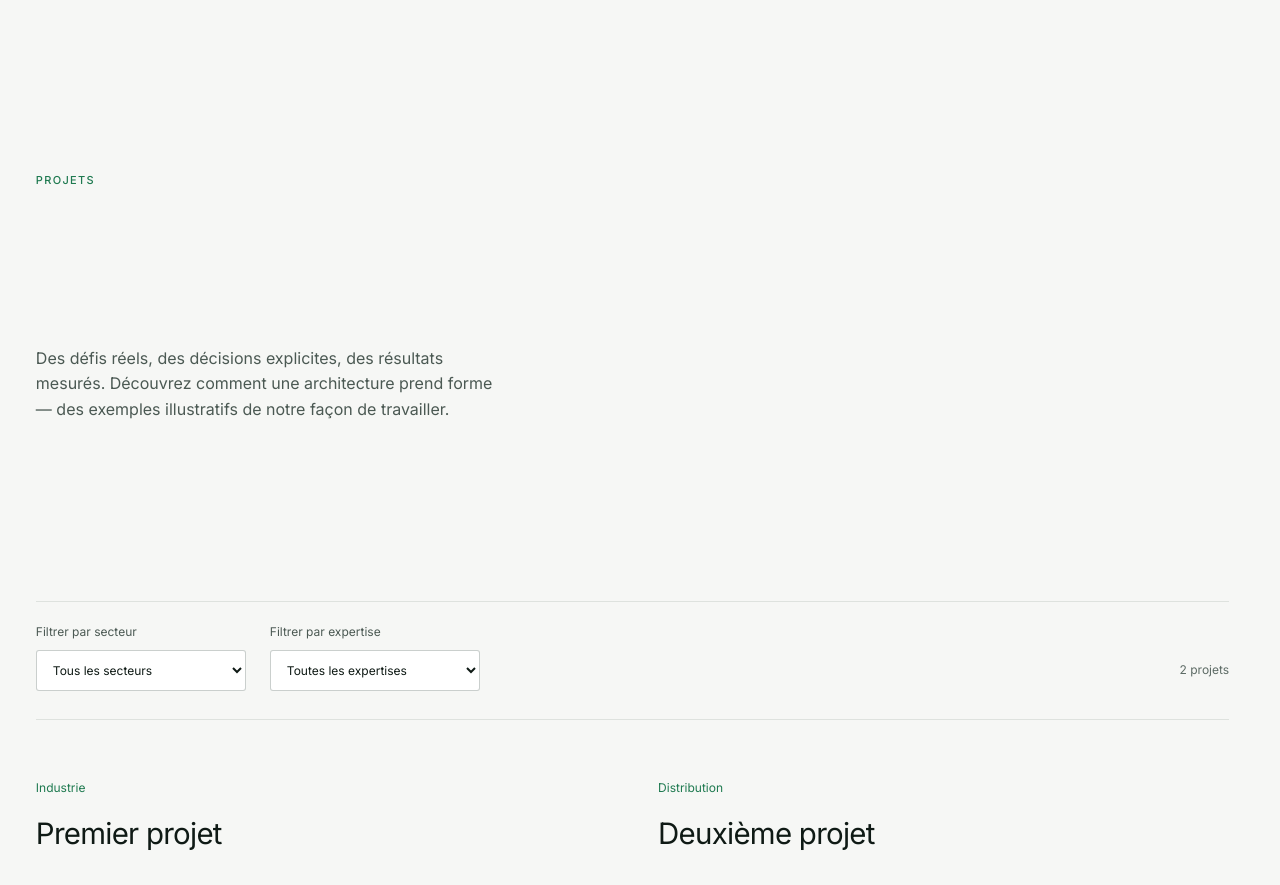
it: work filters use CMS industry and expertise relationships without requiring metrics
This screenshot has width=1280, height=885.
Expected: the heading "Deuxième projet" is shown, x1=658 y1=815 x2=875 y2=851
Select "ERP du CMS" in the dropdown labelled "Filtrer par expertise": (375, 671) x1=270 y1=650 x2=480 y2=692
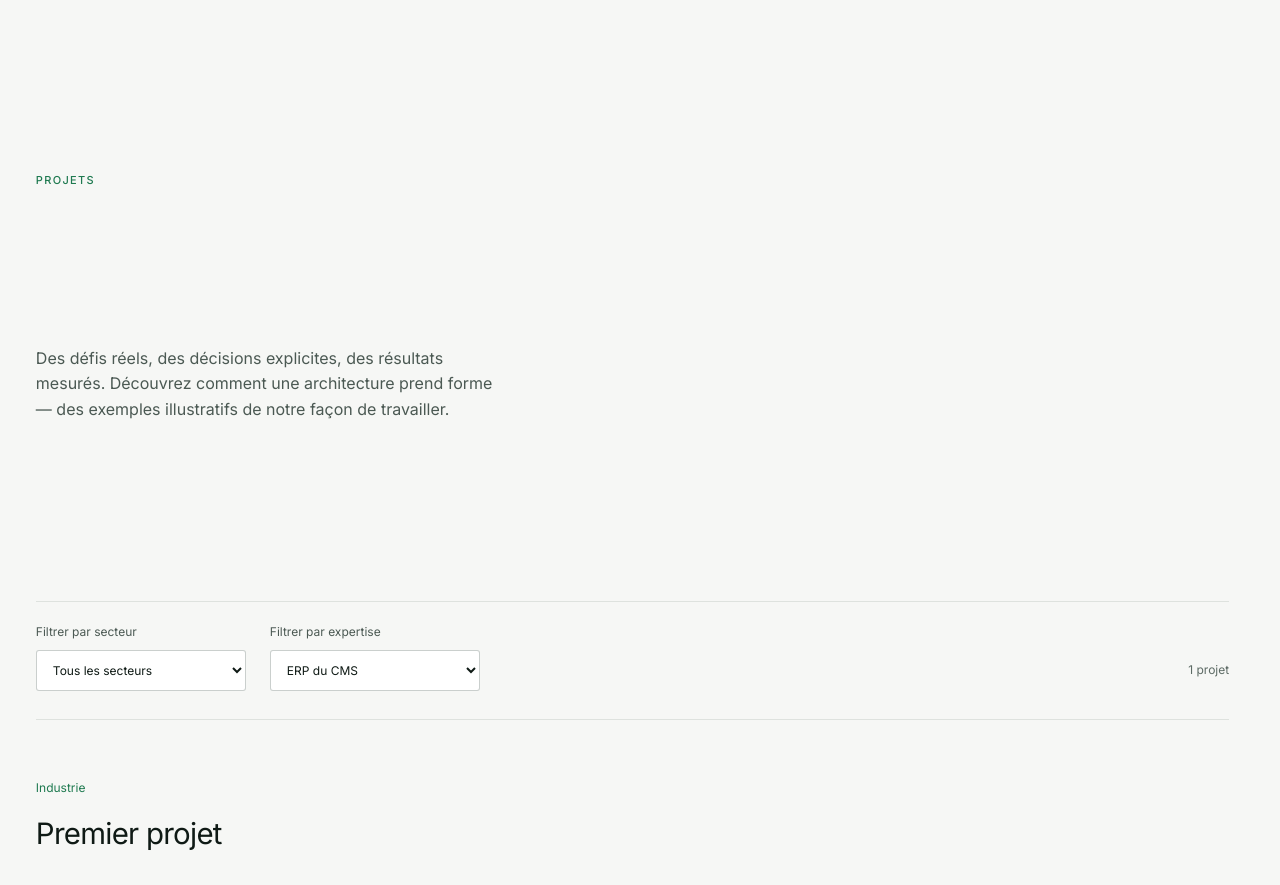
Expected: the heading "Premier projet" is shown, x1=36 y1=815 x2=222 y2=851
Now the link "Deuxième projet" is gone
Select "Toutes les expertises" in the dropdown labelled "Filtrer par expertise": (375, 671) x1=270 y1=650 x2=480 y2=692
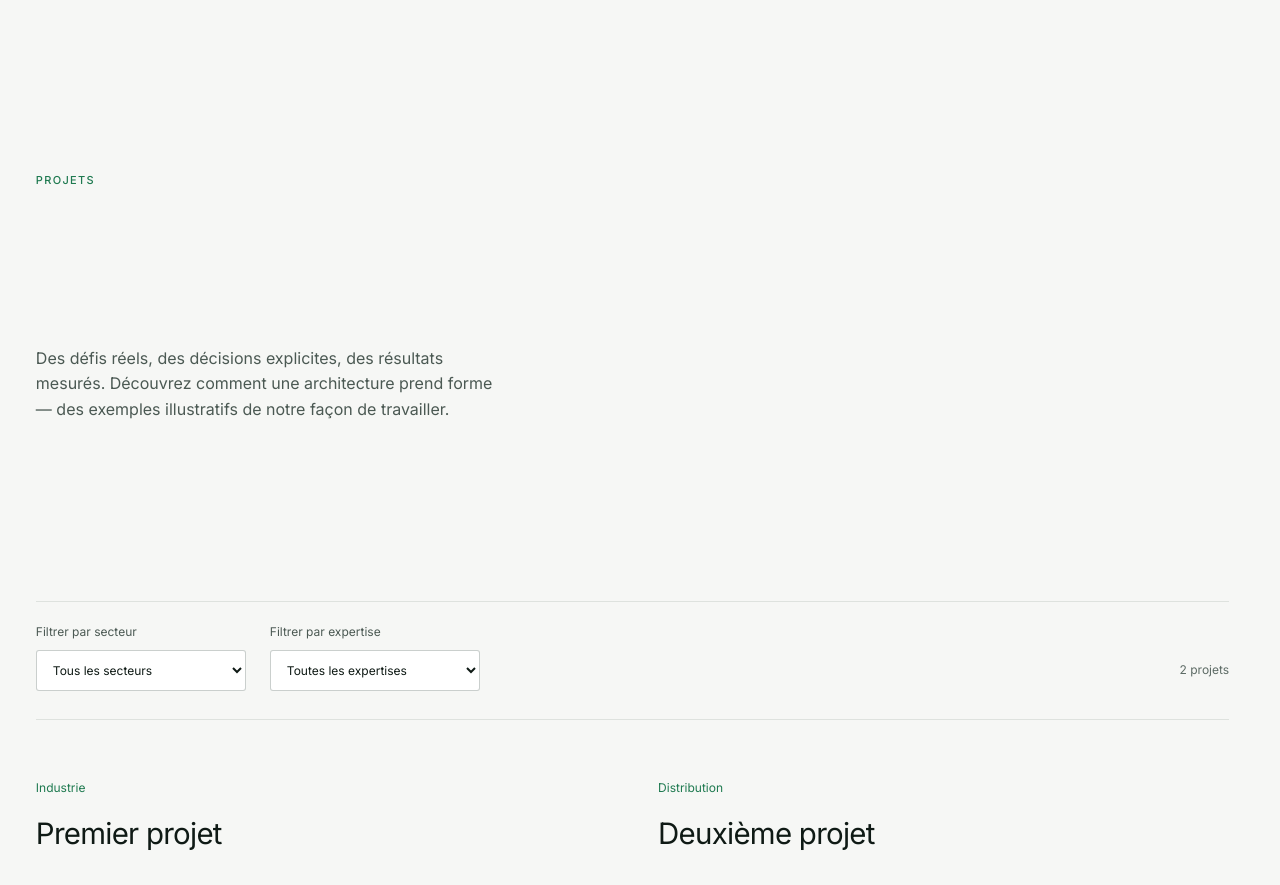
Select "Distribution" in the dropdown labelled "Filtrer par secteur": (141, 671) x1=36 y1=650 x2=246 y2=692
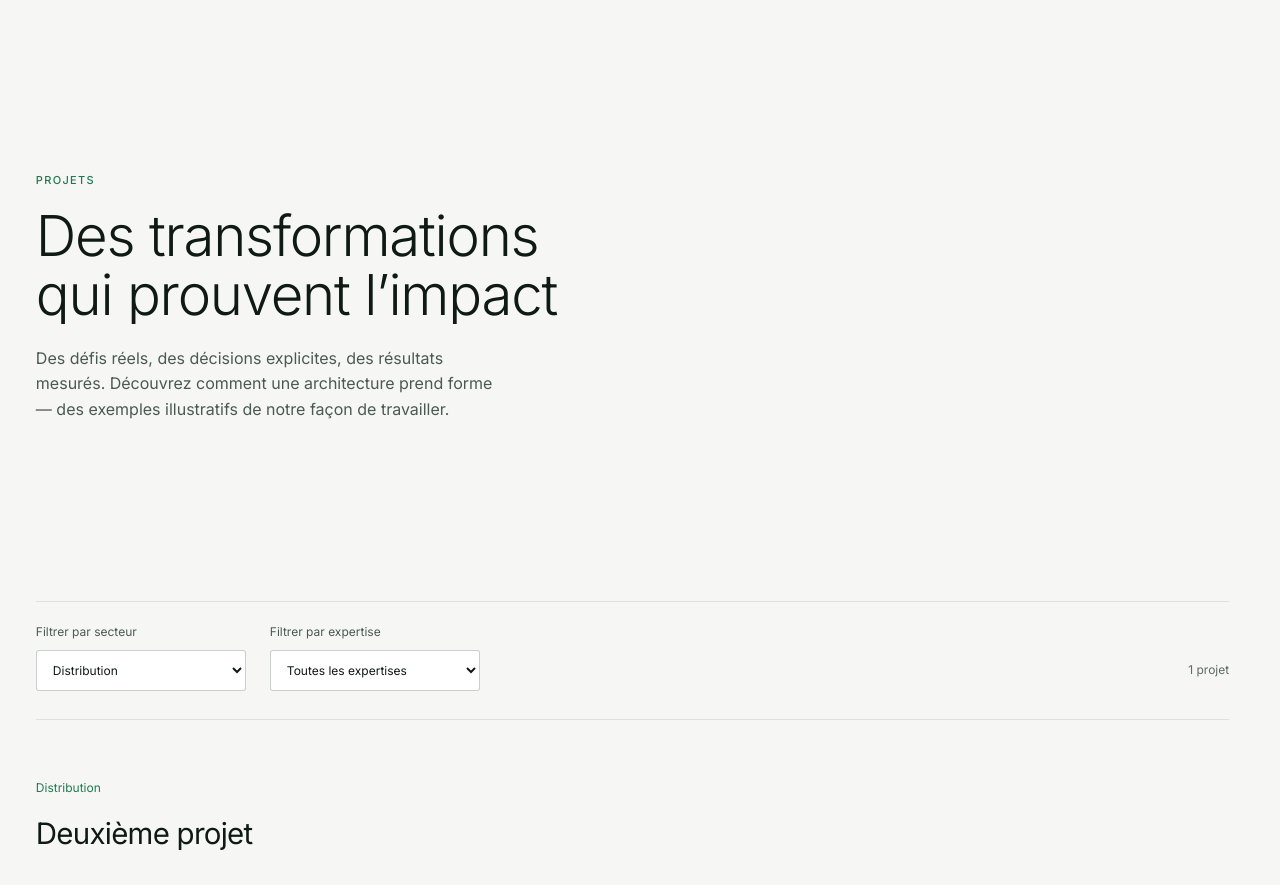
Now the link "Premier projet" is gone
